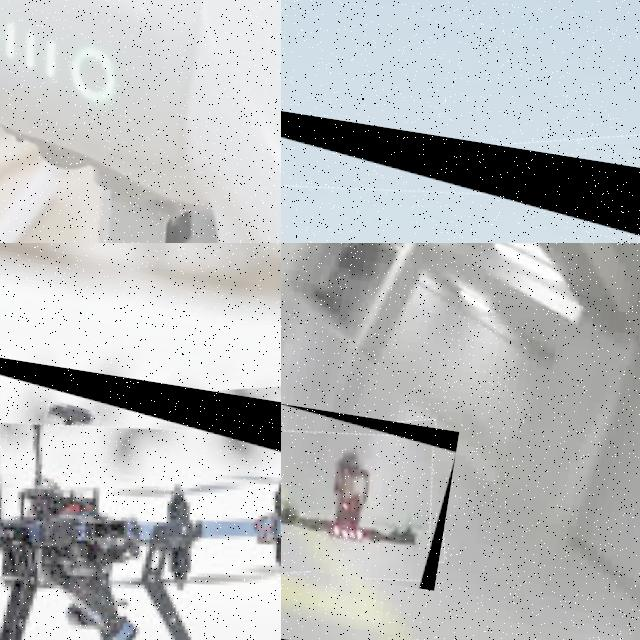0: (281, 403, 459, 591)
drone: (0, 333, 281, 640), (0, 0, 281, 243), (281, 74, 640, 243)
